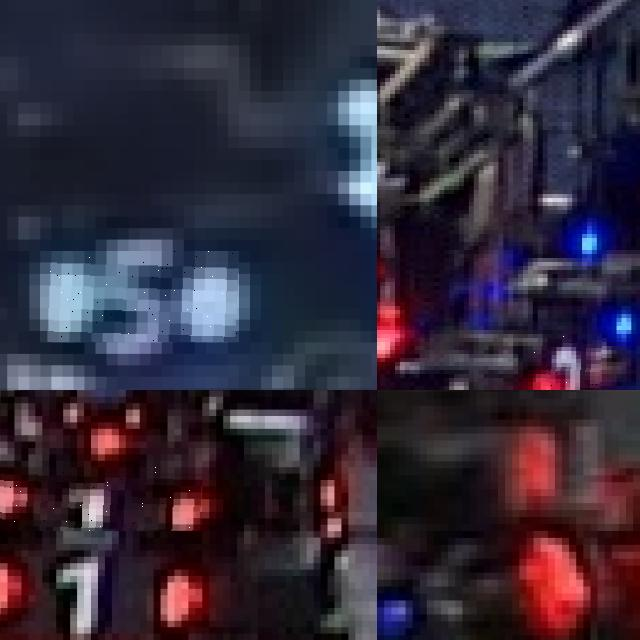B5: (40, 251, 239, 342)
R1: (0, 550, 202, 639), (0, 467, 202, 531)
R2: (533, 334, 602, 390)
